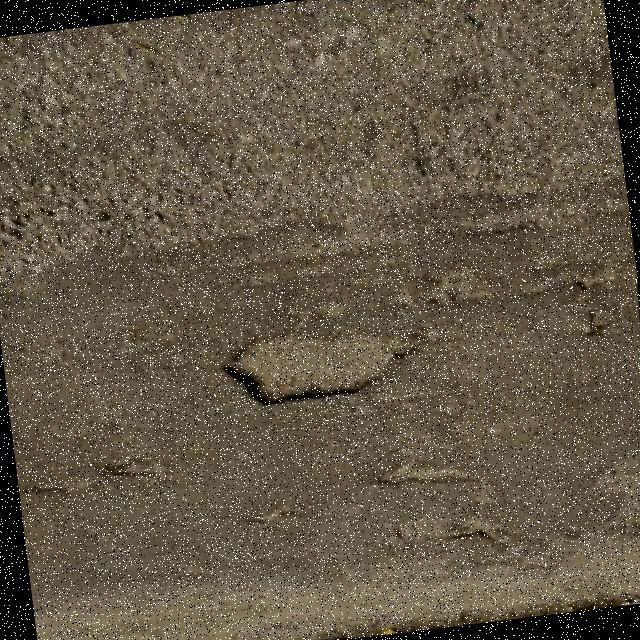Pothole: (219, 331, 426, 402), (378, 460, 474, 483)
